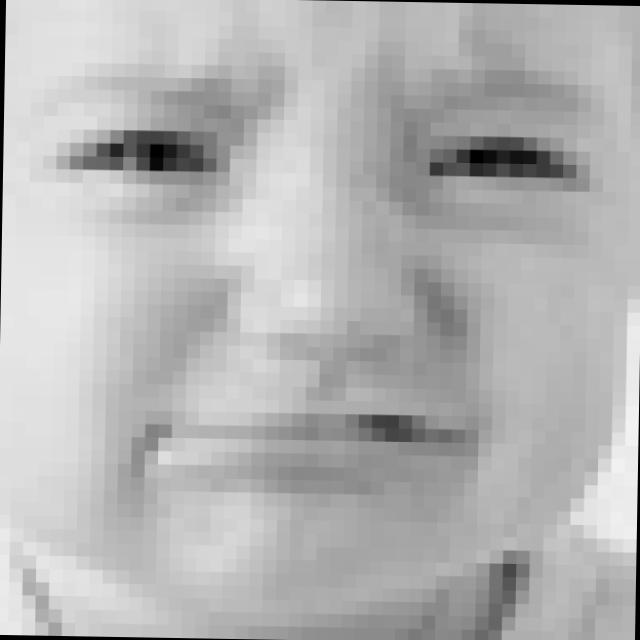sad: (0, 18, 609, 508)
